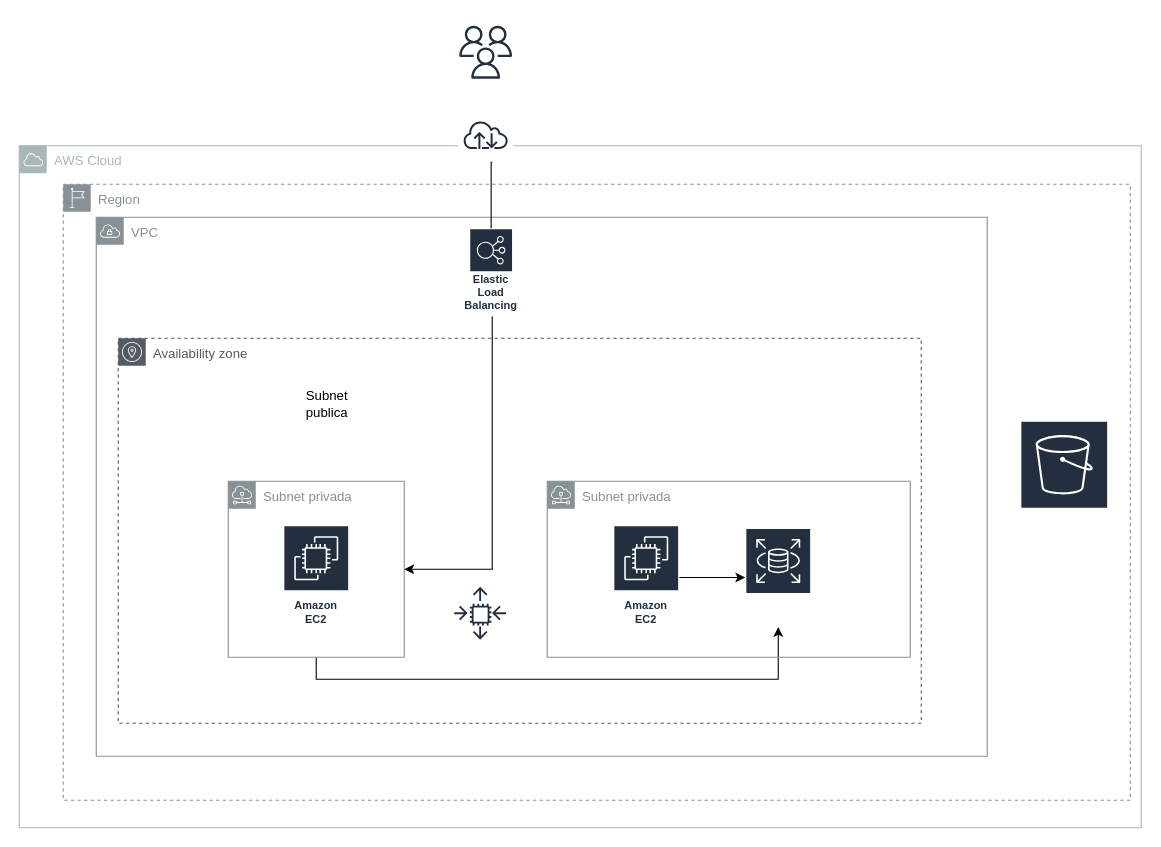
Some shapes in this 1161 by 847 pixel diagram are drawn without their labels. The shapes that lost their labels are listed below. From the top down, each one's centre as x and y in pixels, then its label:
At (x=485, y=51): "Users".
At (x=485, y=134): "Internet".
At (x=1063, y=475): "Amazon S3".
At (x=777, y=577): "Amazon RDS".
At (x=479, y=612): "Auto Scaling".
